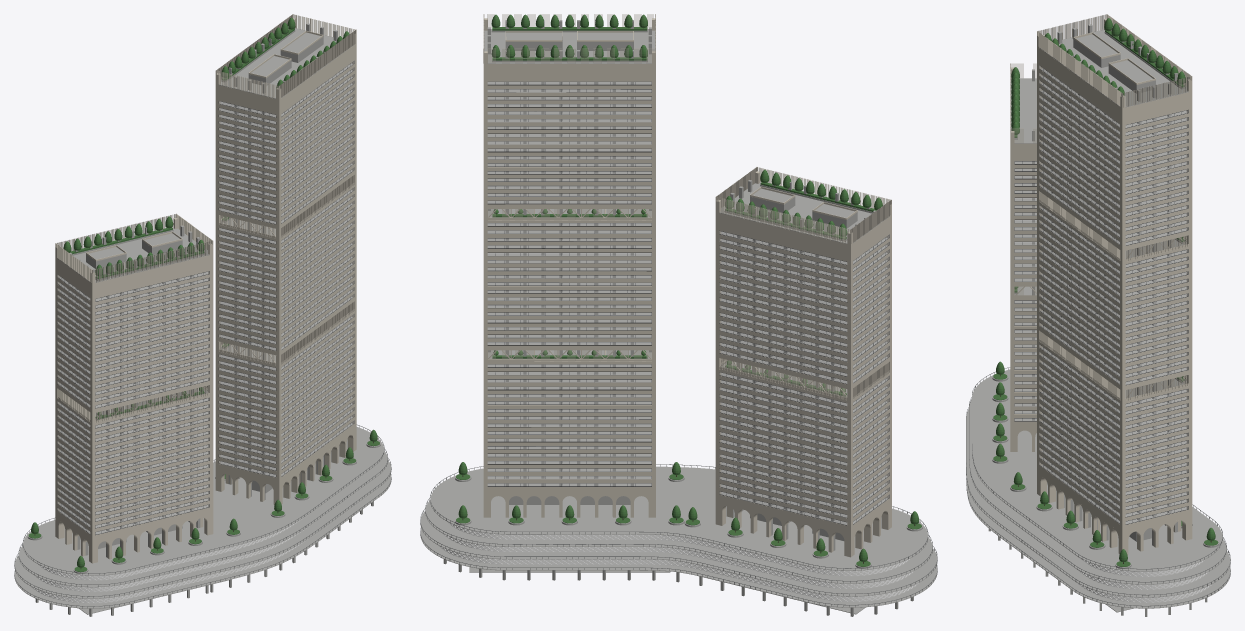
File: highrise_house.optimized.glb
3 renders of one model, left to right at view 1: azimuth 30°, elevation 25°; view 2: azimuth 150°, elevation 25°; view 3: azimuth 270°, elevation 25°, orthographic. The views are drawn at different scales.
Parts seen in each view (by area): view 1: Web_Spandrel, Web_Concrete, Web_Glass_Web, Web_LouvreMetal, Web_Shadowbox, Web_Foliage_Web, Podium_Diamond_Grid; view 2: Web_Spandrel, Web_Concrete, Web_Glass_Web, Web_LouvreMetal, Web_Shadowbox, Web_Foliage_Web, Podium_Diamond_Grid; view 3: Web_Spandrel, Web_Concrete, Web_Glass_Web, Web_LouvreMetal, Web_Shadowbox, Web_Foliage_Web, Podium_Diamond_Grid.
Boxes of the visible parts, <box> form: Web_Spandrel: <box>55,14,356,563</box>; Web_Concrete: <box>14,23,391,616</box>; Web_Glass_Web: <box>32,62,354,603</box>; Web_LouvreMetal: <box>14,60,391,607</box>; Web_Shadowbox: <box>57,68,354,534</box>; Web_Foliage_Web: <box>28,17,379,572</box>; Podium_Diamond_Grid: <box>31,478,361,603</box>; Web_Spandrel: <box>483,14,891,557</box>; Web_Concrete: <box>420,20,937,616</box>; Web_Glass_Web: <box>438,82,918,601</box>; Web_LouvreMetal: <box>420,81,937,606</box>; Web_Shadowbox: <box>487,84,889,525</box>; Web_Foliage_Web: <box>456,14,921,566</box>; Podium_Diamond_Grid: <box>439,522,918,601</box>; Web_Spandrel: <box>1010,14,1192,554</box>; Web_Concrete: <box>966,24,1230,616</box>; Web_Glass_Web: <box>1015,66,1211,602</box>; Web_LouvreMetal: <box>966,65,1230,607</box>; Web_Shadowbox: <box>1014,68,1188,524</box>; Web_Foliage_Web: <box>993,18,1218,566</box>; Podium_Diamond_Grid: <box>1016,525,1211,602</box>.
Bounding box in the file's own units: 251 × 279 × 131.
